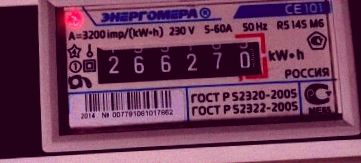0: (237, 48, 250, 69)
2: (105, 53, 120, 74), (184, 50, 197, 72)
6: (131, 54, 145, 74), (157, 52, 171, 72)
7: (209, 49, 223, 71)
screen: (85, 28, 275, 93)
